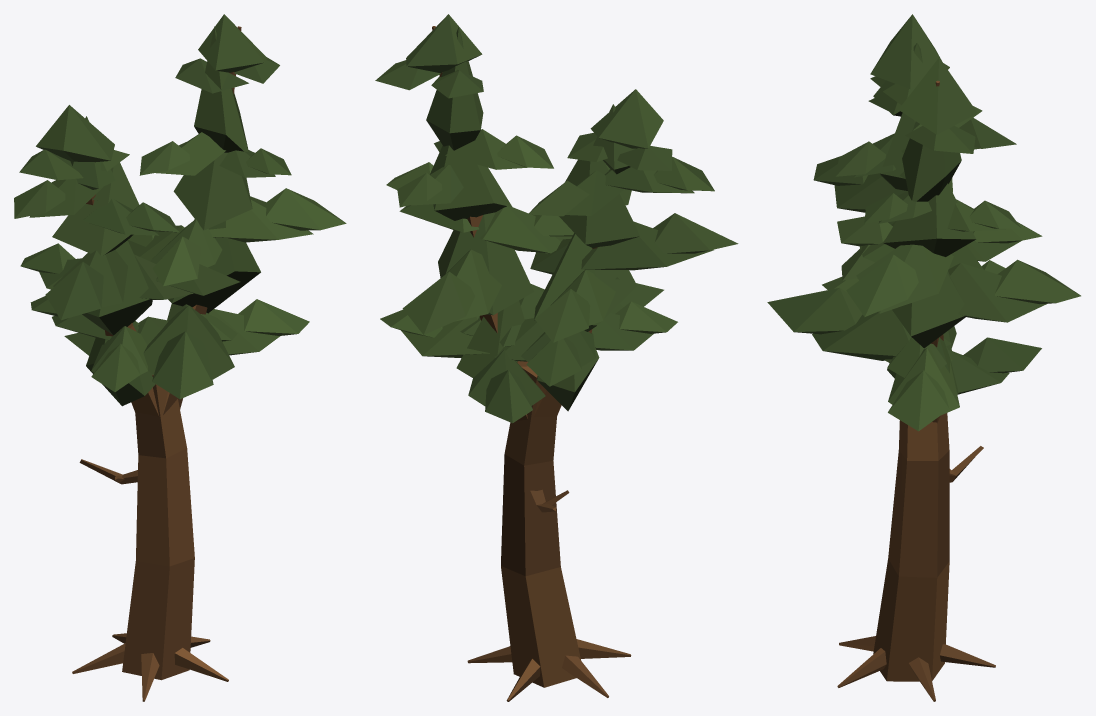
Rendered from pine-06-far.glb.
3 views of the same model, side by side, from view 1: azimuth 30°, elevation 25°; view 2: azimuth 150°, elevation 25°; view 3: azimuth 270°, elevation 25° (orthographic). The views are drawn at different scales.
Visible parts, largest first — view 1: pine-06-far; view 2: pine-06-far; view 3: pine-06-far.
Boxes of the visible parts, x1=… form: pine-06-far: x1=14, y1=14, x2=346, y2=701; pine-06-far: x1=375, y1=14, x2=738, y2=701; pine-06-far: x1=767, y1=14, x2=1080, y2=701.
Bounding box in the file's own units: 4.84 × 9 × 3.92.
